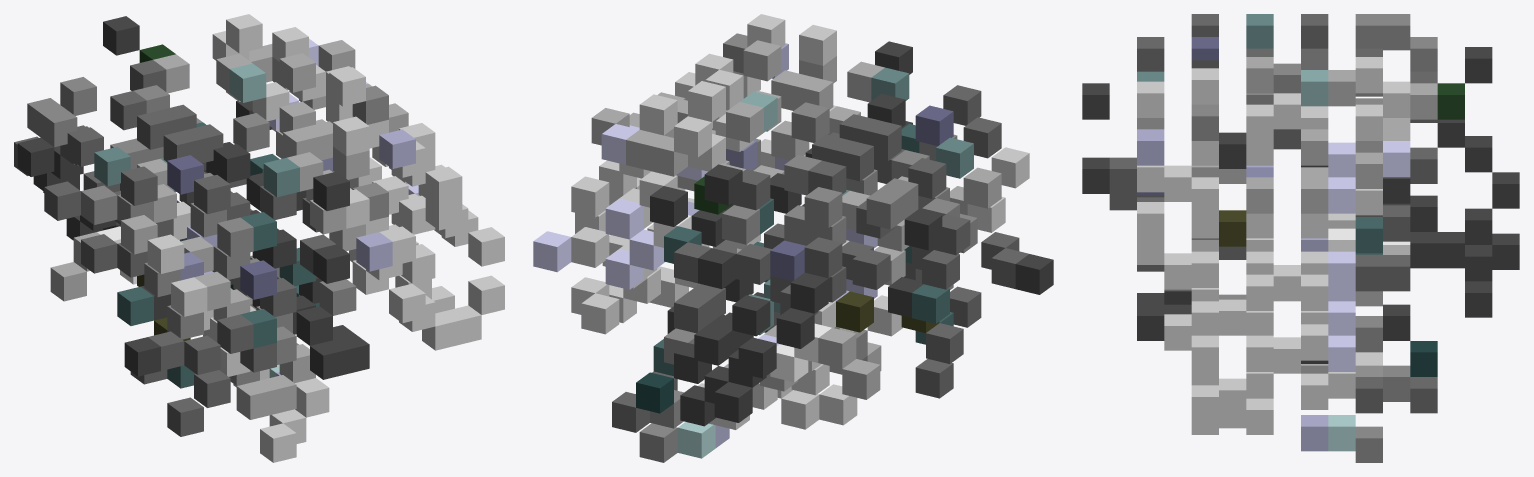
File: object_010_voxel.obj
3 views of the same model, side by side, from view 1: azimuth 30°, elevation 25°; view 2: azimuth 150°, elevation 25°; view 3: azimuth 270°, elevation 25° (orthographic). The views are drawn at different scales.
Size of the model in its own units: 0.17 by 0.15 by 0.16.
